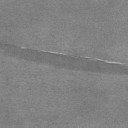finishing roll printing: (0, 43, 128, 77)
